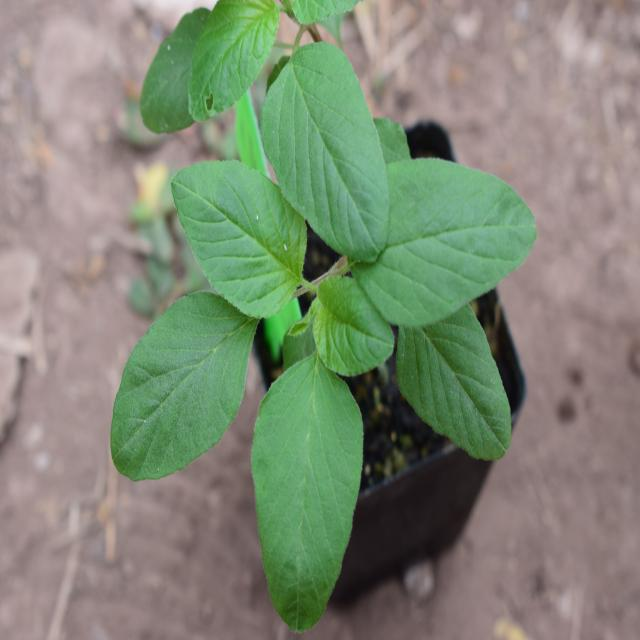pigweed: (145, 86, 507, 604)
